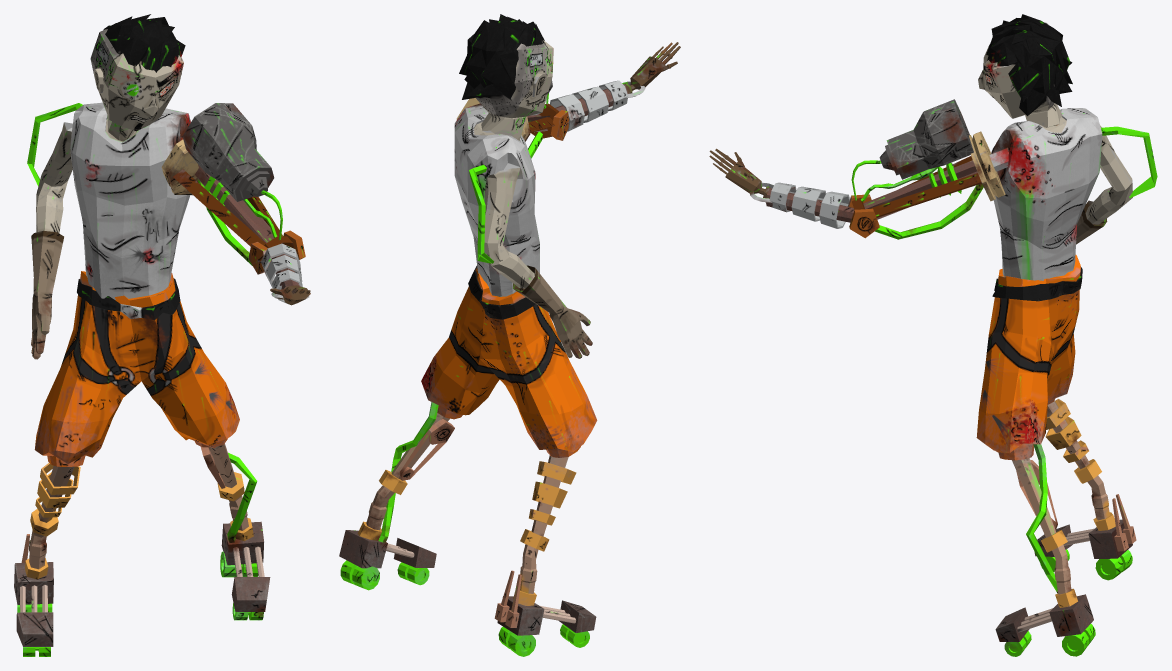
Rendered from CyborgFINALAnimation_000030.obj.
3 renders of one model, left to right at view 1: azimuth 30°, elevation 25°; view 2: azimuth 150°, elevation 25°; view 3: azimuth 270°, elevation 25°, orthographic. The views are drawn at different scales.
Visible parts, largest first — view 1: CyborgMesh_Cube.002; view 2: CyborgMesh_Cube.002; view 3: CyborgMesh_Cube.002.
Part boxes in pixels (x1=…): CyborgMesh_Cube.002: x1=14, y1=14, x2=310, y2=656; CyborgMesh_Cube.002: x1=339, y1=14, x2=680, y2=656; CyborgMesh_Cube.002: x1=709, y1=14, x2=1157, y2=656.
Bounding box in the file's own units: 4.04 × 9.54 × 6.6.
